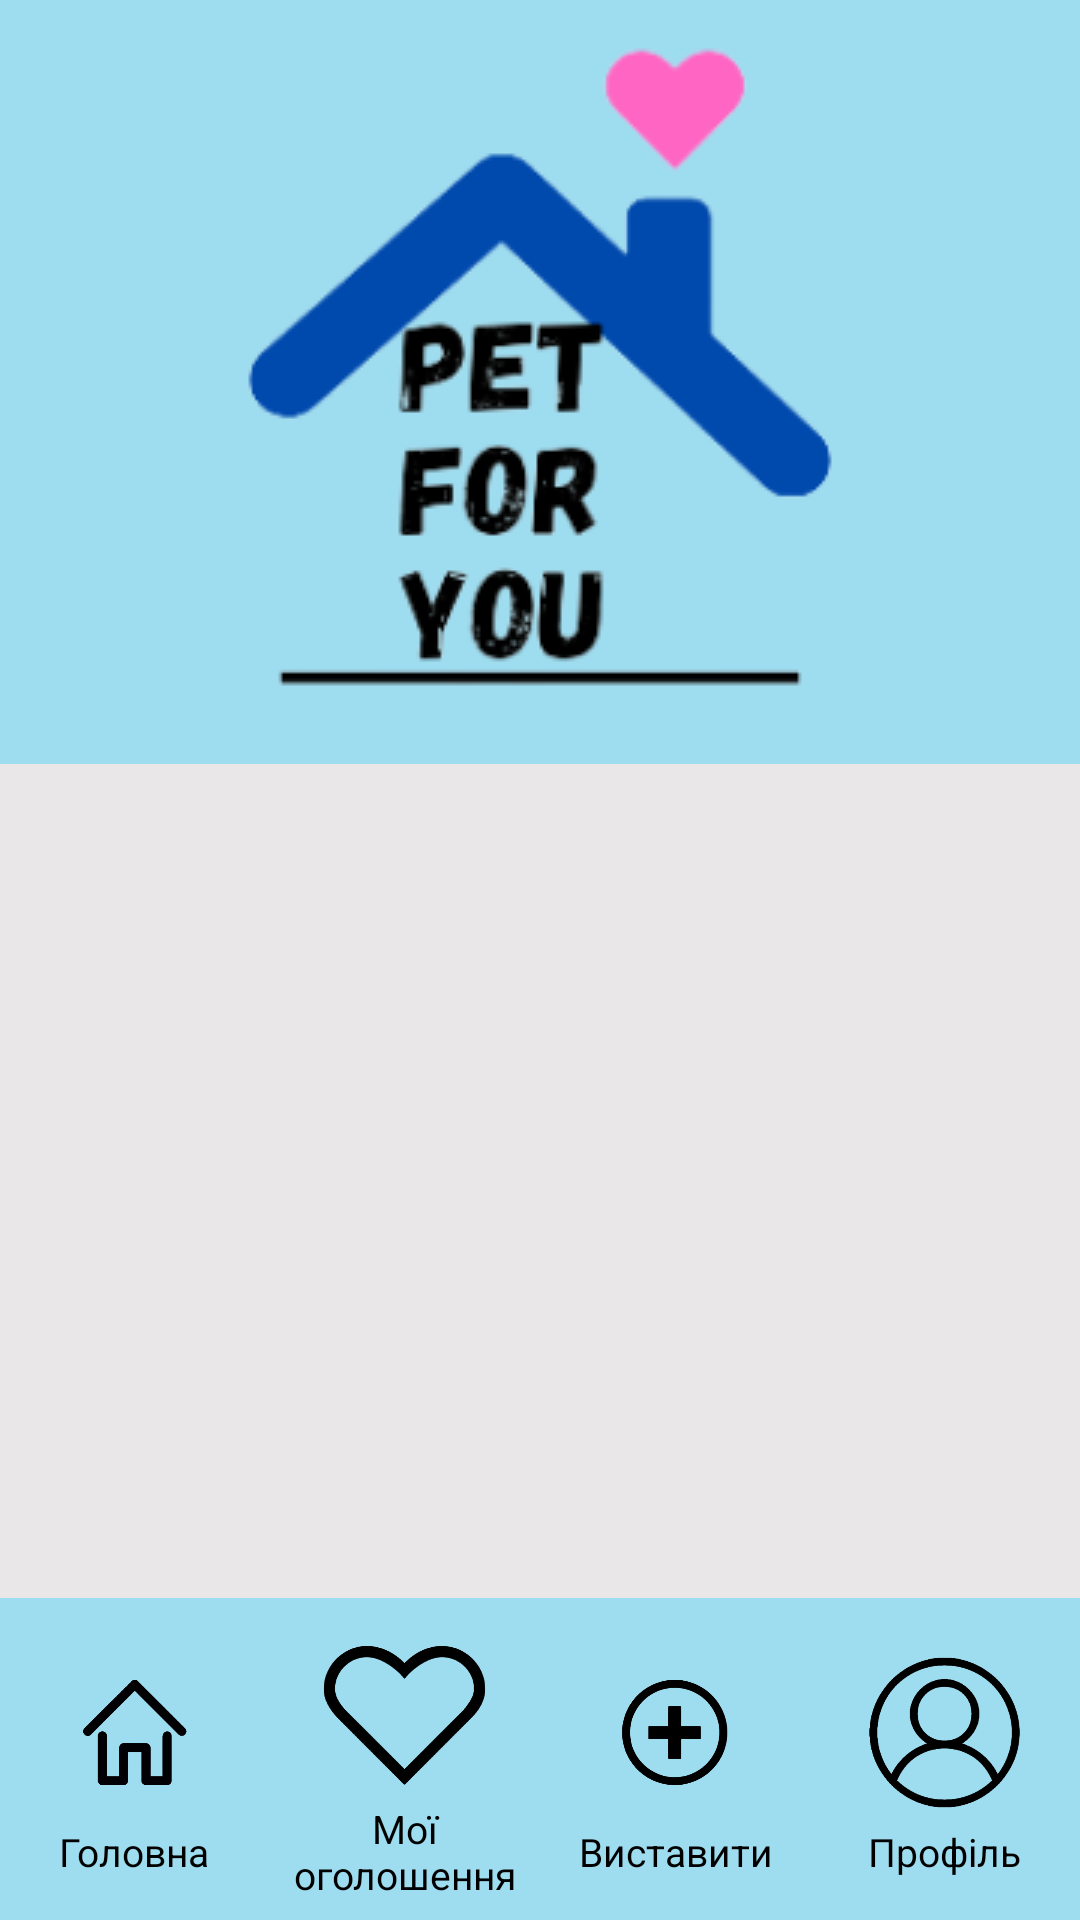

Screen size 1080x1920. Icon name, then its box in pixels as (x1, y1, x2, y2):
add advertisement: (622, 1680, 728, 1785)
heart: (324, 1646, 485, 1785)
house: (83, 1680, 187, 1785)
